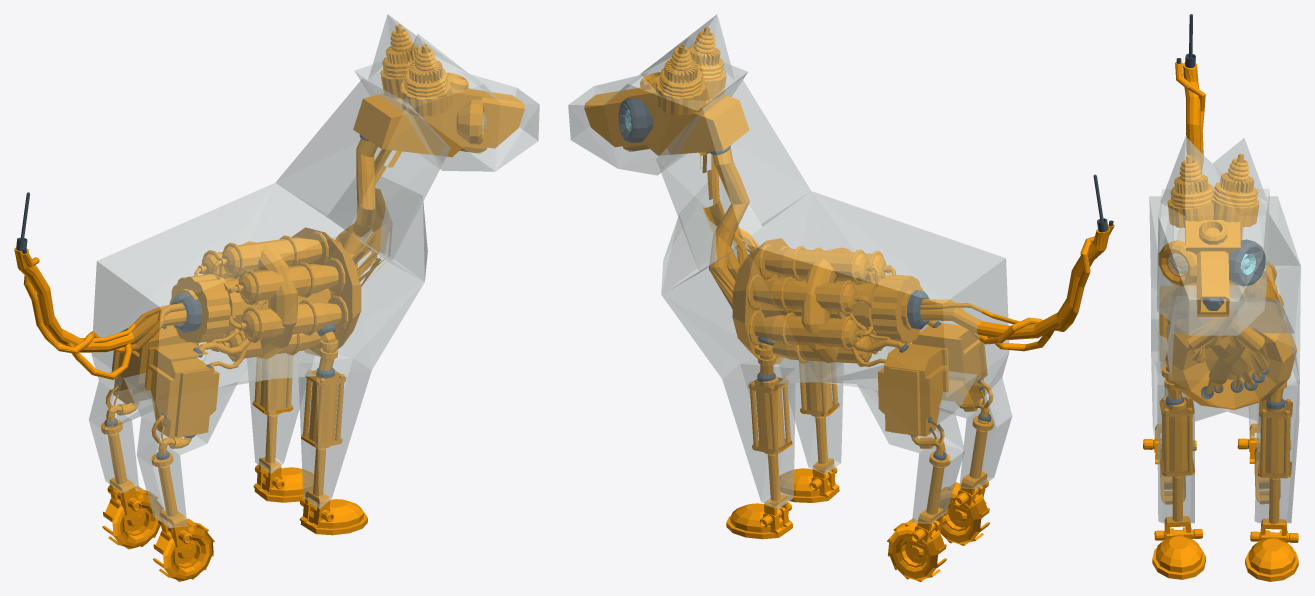
Rendered from robot-dog.glb.
3 views of the same model, side by side, from view 1: azimuth 30°, elevation 25°; view 2: azimuth 150°, elevation 25°; view 3: azimuth 270°, elevation 25° (orthographic).
Visible parts, largest first — view 1: group1696172055, group1985620446, group70274737, group1621857491, group417112711, group1983128630, group1304102152, group1706575668, group916120736, group217871607, group1392928080, group25231307 (+1 smaller); view 2: group1696172055, group1985620446, group1706575668, group417112711, group1621857491, group70274737, group1304102152, group217871607, group1983128630, group916120736, group463141620, group679852039; view 3: group1696172055, group1985620446, group217871607, group1983128630, group1304102152, group916120736, group1392928080, group463141620, group417112711, group1621857491, group70274737, group2017490569 (+2 smaller).
Boxes of the visible parts, <box> form: group1696172055: <box>14,14,539,535</box>; group1985620446: <box>353,72,524,157</box>; group70274737: <box>144,342,219,437</box>; group1621857491: <box>151,452,214,581</box>; group417112711: <box>101,420,163,549</box>; group1983128630: <box>401,44,452,116</box>; group1304102152: <box>335,139,377,269</box>; group1706575668: <box>111,325,186,404</box>; group916120736: <box>351,149,401,286</box>; group217871607: <box>380,24,419,97</box>; group1392928080: <box>456,99,486,145</box>; group25231307: <box>193,300,266,369</box>; group1696172055: <box>568,14,1114,539</box>; group1985620446: <box>584,72,749,155</box>; group1706575668: <box>878,343,948,436</box>; group417112711: <box>887,452,950,581</box>; group1621857491: <box>938,416,993,545</box>; group70274737: <box>912,323,987,403</box>; group1304102152: <box>709,148,749,308</box>; group217871607: <box>655,44,706,115</box>; group1983128630: <box>687,27,726,99</box>; group916120736: <box>699,152,759,265</box>; group463141620: <box>618,98,653,142</box>; group679852039: <box>837,311,908,366</box>; group1696172055: <box>1149,53,1300,581</box>; group1985620446: <box>1185,220,1243,316</box>; group217871607: <box>1211,154,1259,227</box>; group1983128630: <box>1167,155,1214,227</box>; group1304102152: <box>1205,320,1269,393</box>; group916120736: <box>1187,286,1254,388</box>; group1392928080: <box>1158,240,1197,286</box>; group463141620: <box>1228,239,1265,286</box>; group417112711: <box>1237,416,1290,503</box>; group1621857491: <box>1143,388,1196,504</box>; group70274737: <box>1159,285,1177,365</box>; group2017490569: <box>1161,365,1183,405</box>.
Size of the model in its own units: 3.6 by 3.16 by 0.9334.
